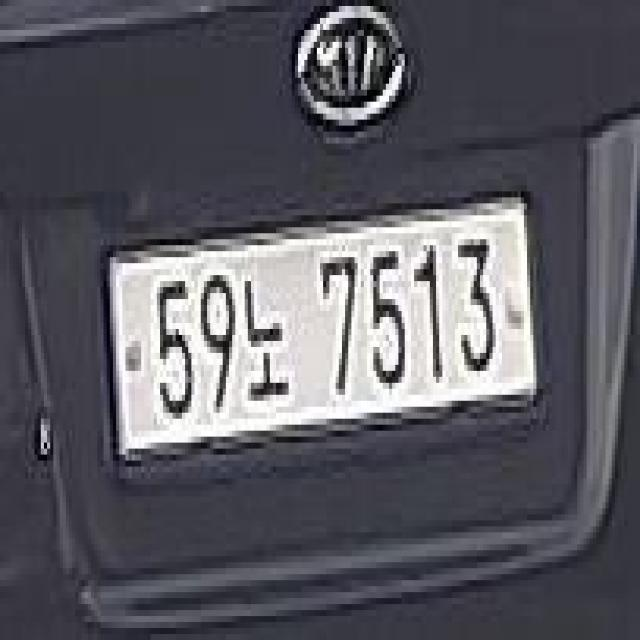1: (413, 236, 450, 392)
3: (454, 231, 498, 383)
5: (148, 269, 194, 418), (368, 240, 409, 390)
7: (318, 242, 362, 399)
9: (197, 262, 239, 418)
license_plate: (94, 172, 556, 528)
no: (241, 261, 293, 408)
